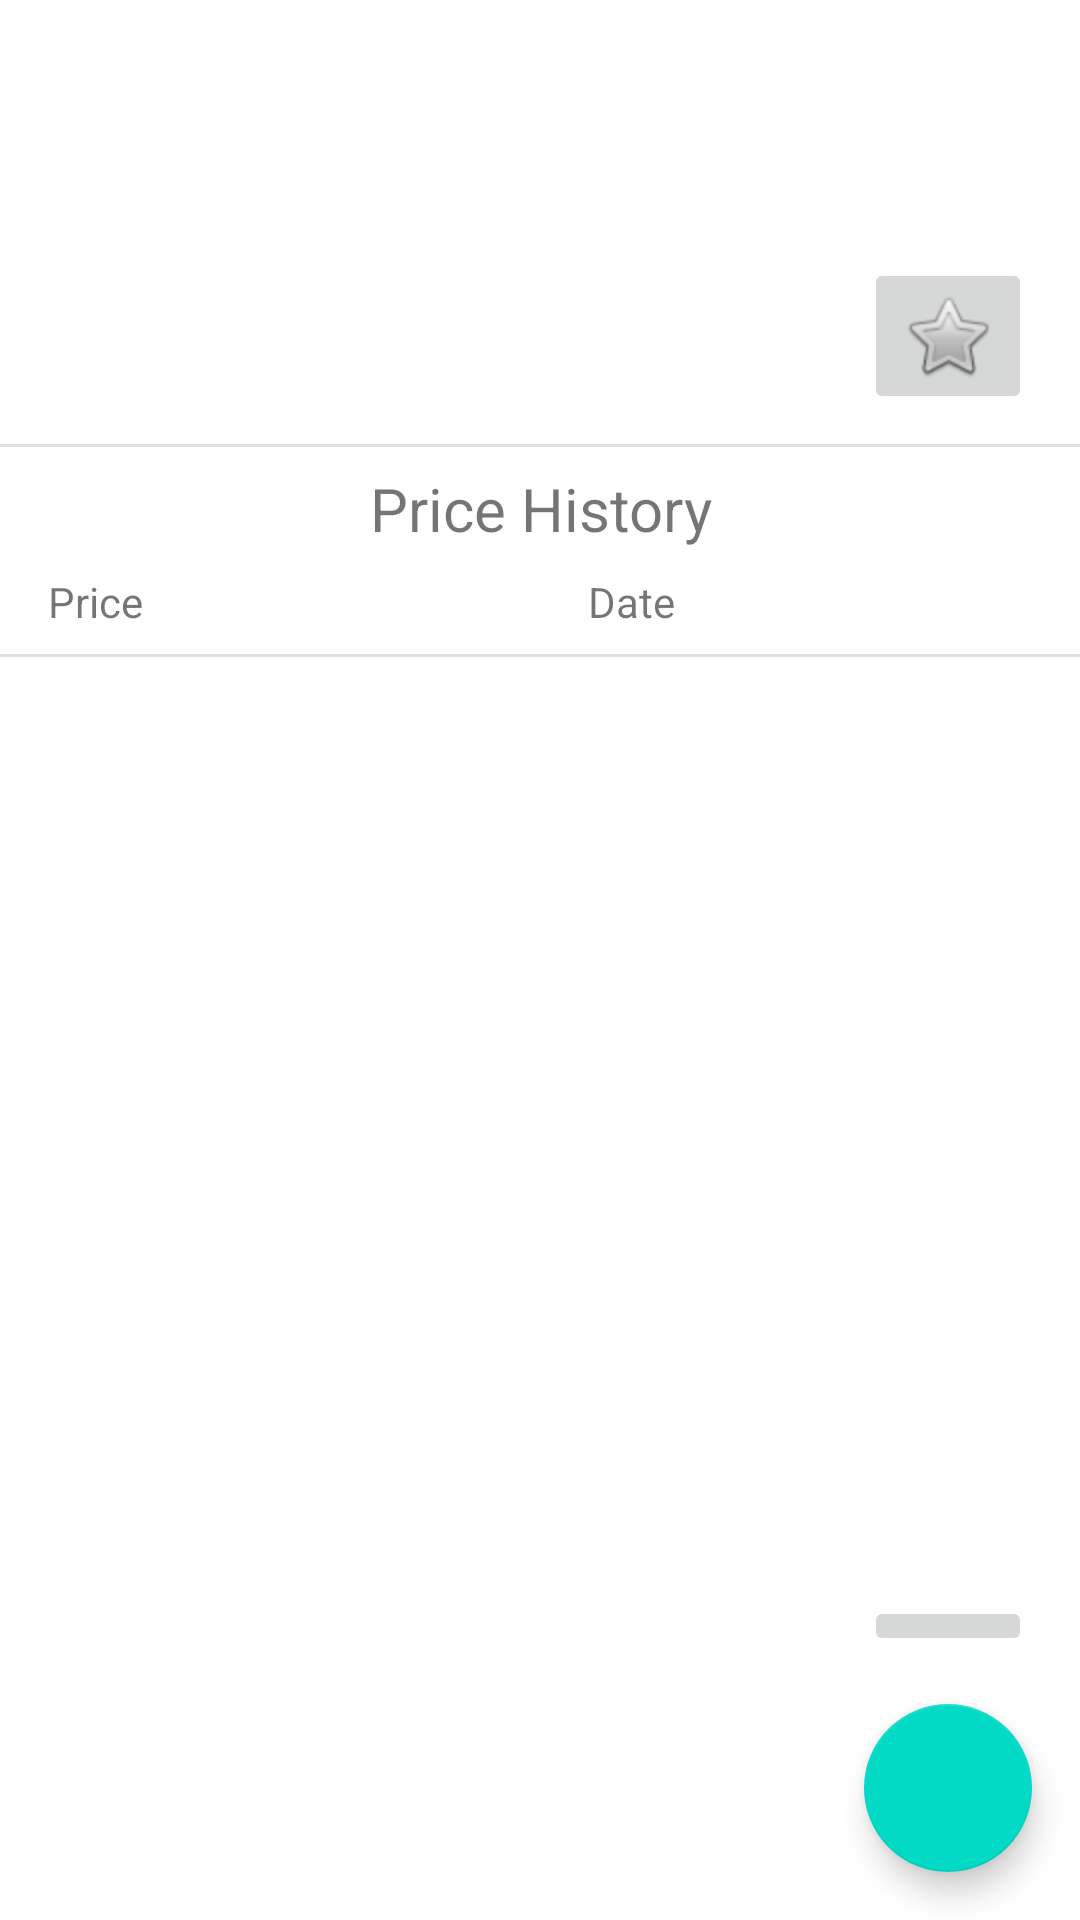

Icons on this 1080w x 1920h Android screen, each with the point to tap as (x=x, y=y):
star: (x=948, y=336)
